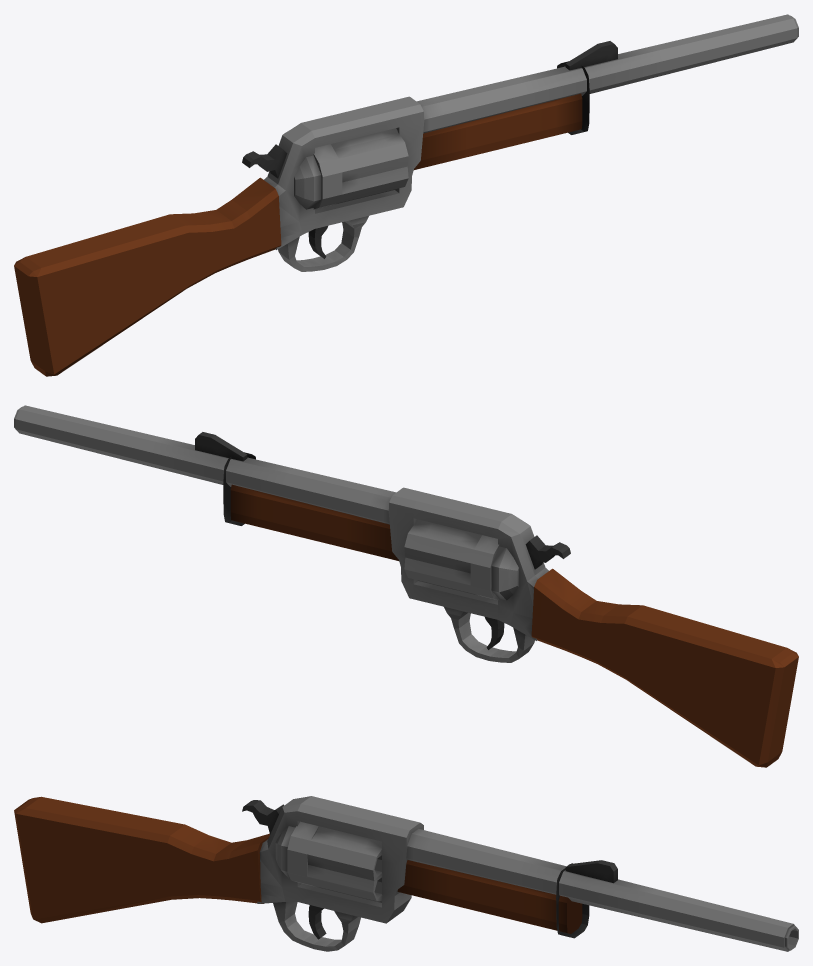
The model's file is v-revolver-rifles-medium.glb.
3 renders of one model, top to bottom at view 1: azimuth 30°, elevation 25°; view 2: azimuth 150°, elevation 25°; view 3: azimuth 330°, elevation 25°, orthographic.
Parts seen in each view (by area): view 1: receiver (×2), stock, front (×3), grip; view 2: receiver (×2), stock, front (×3), grip; view 3: receiver (×3), stock, front (×3), grip (×2).
Boxes of the visible parts, bbox=[...] form: receiver (×2): bbox=[247, 77, 528, 253]; stock: bbox=[14, 187, 265, 376]; front (×3): bbox=[518, 14, 798, 142]; grip: bbox=[278, 216, 366, 271]; receiver (×2): bbox=[284, 468, 565, 644]; stock: bbox=[547, 578, 798, 767]; front (×3): bbox=[14, 405, 294, 533]; grip: bbox=[446, 607, 534, 662]; receiver (×3): bbox=[244, 796, 523, 923]; stock: bbox=[14, 796, 262, 923]; front (×3): bbox=[513, 855, 798, 951]; grip (×2): bbox=[261, 894, 360, 951].
Bounding box in the file's own units: 0.9 × 0.2122 × 0.0714.
